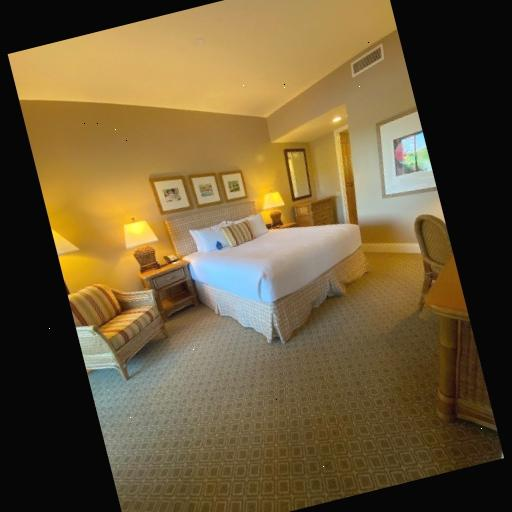chair: (68, 261, 190, 394)
clean_bed: (170, 168, 388, 358)
clean_floor: (88, 257, 501, 512)
lamp: (102, 208, 173, 282), (255, 186, 298, 234)
organised_pillow: (174, 205, 275, 264)
